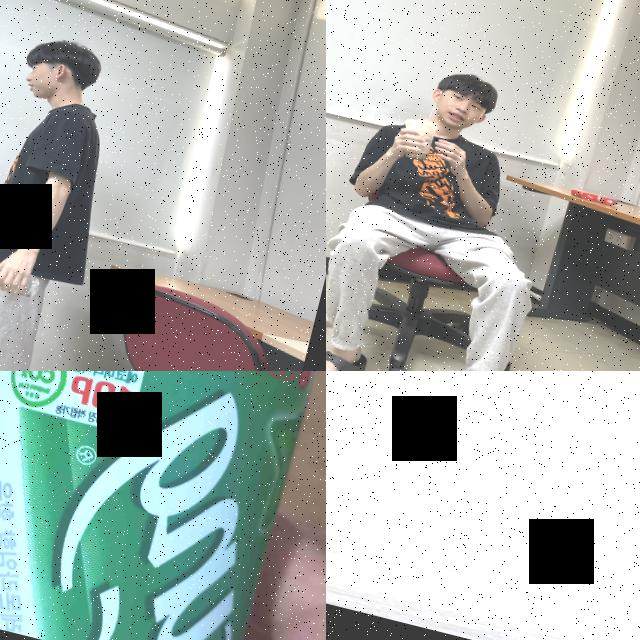bottle: (0, 245, 42, 299)
can: (0, 371, 326, 640)
cup: (396, 115, 440, 162)
